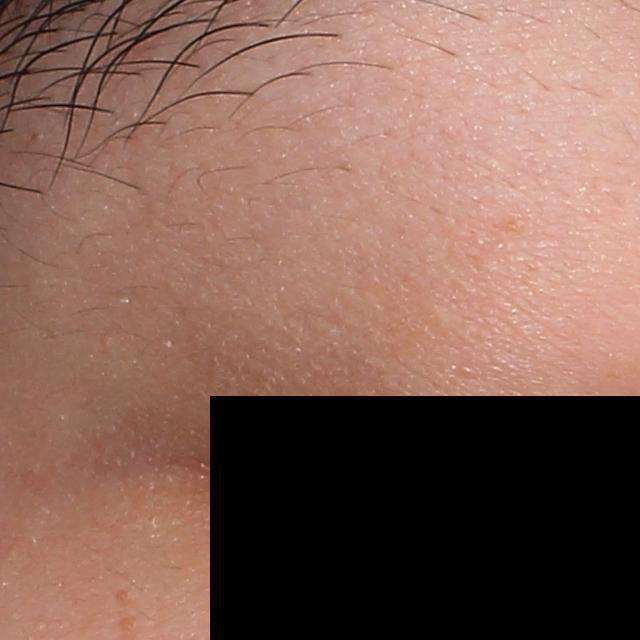melasma: (108, 588, 133, 607)
